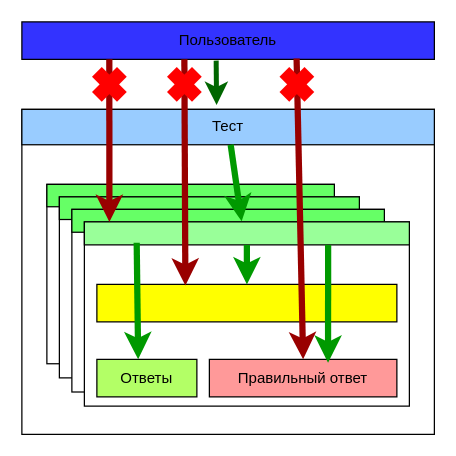
Image size: 456x456. Some labels were removed from this diagram. Each missing label, with the centre of its shape:
Вопрос: point (246, 233)
Вопрос теста: point (246, 302)
